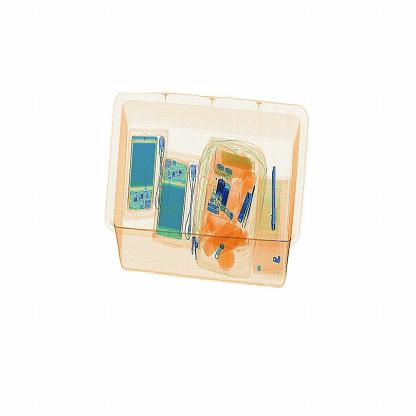pliers: (264, 158, 283, 241)
